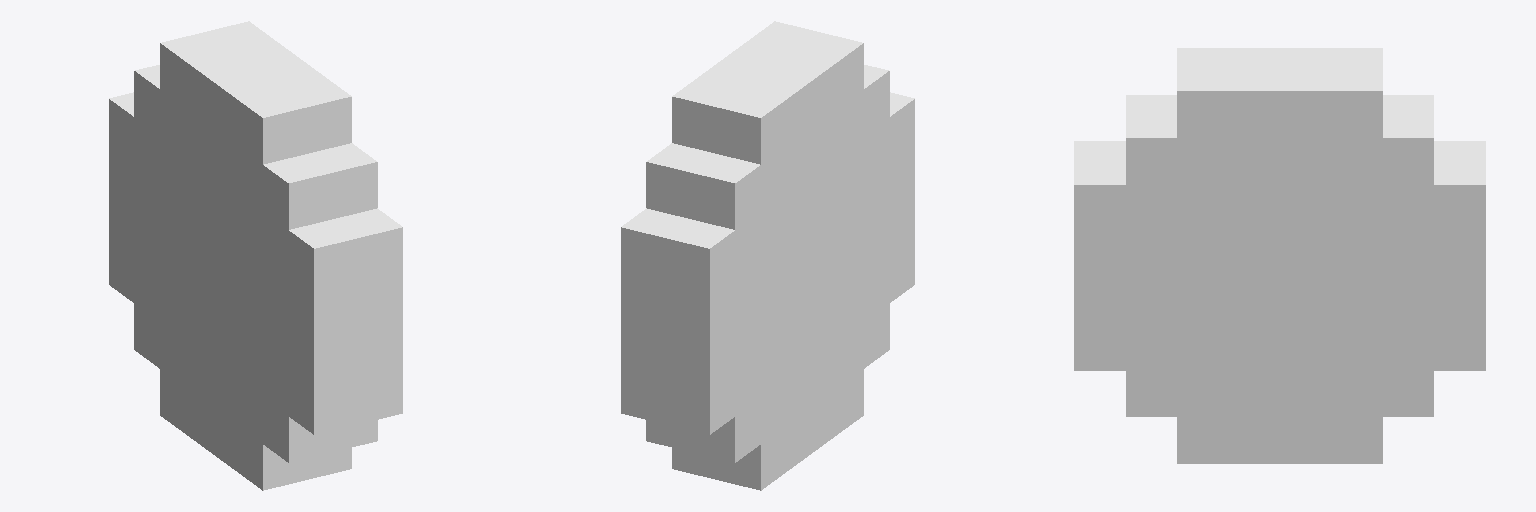
Rendered from wheel2.obj.
The picture shows the model from 3 angles: view 1: azimuth 30°, elevation 25°; view 2: azimuth 150°, elevation 25°; view 3: azimuth 270°, elevation 25°; orthographic projection.
Parts seen in each view (by area): view 1: object 1; view 2: object 1; view 3: object 1.
Boxes of the visible parts, <box> form: object 1: <box>109,21,402,490</box>; object 1: <box>621,21,914,490</box>; object 1: <box>1074,48,1485,463</box>.
Bounding box in the file's own units: 0.2 × 0.8 × 0.8.